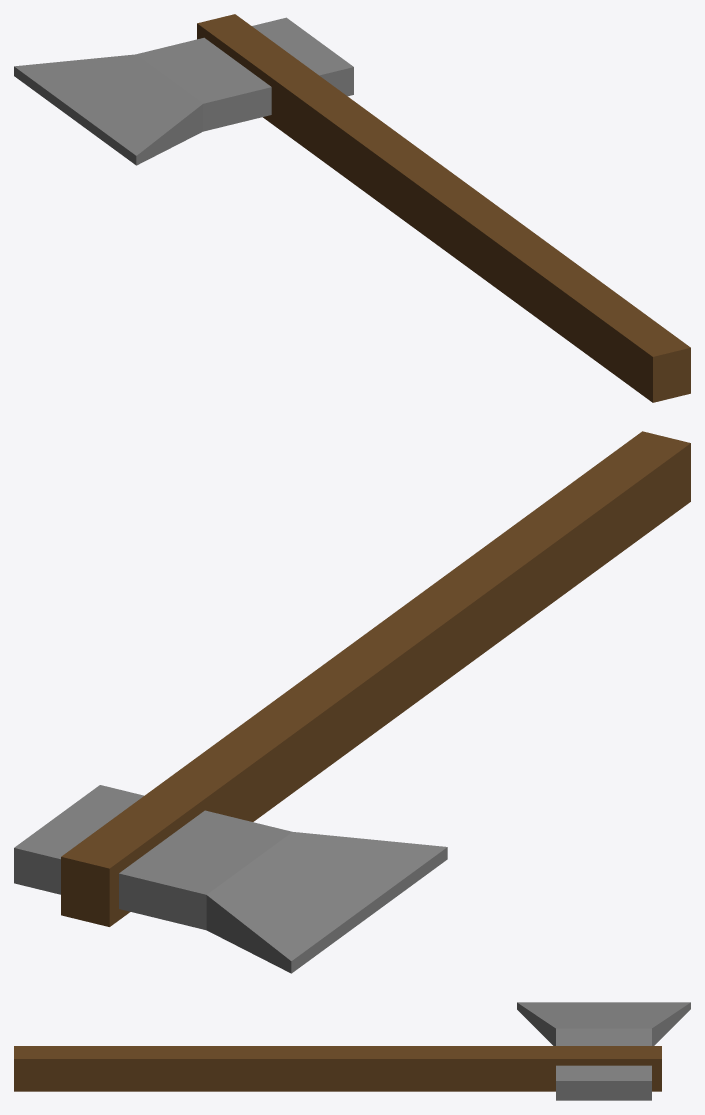
File: Axe_Embedded.gltf
The picture shows the model from 3 angles, top to bottom: view 1: azimuth 30°, elevation 25°; view 2: azimuth 150°, elevation 25°; view 3: azimuth 270°, elevation 25°; orthographic projection. The views are drawn at different scales.
Visible parts, largest first — view 1: Zxe; view 2: Zxe; view 3: Zxe.
Part boxes in pixels (x1=…): Zxe: x1=14, y1=14, x2=690, y2=402; Zxe: x1=14, y1=431, x2=690, y2=973; Zxe: x1=14, y1=1002, x2=690, y2=1100.
Bounding box in the file's own units: 0.3793 × 0.068 × 1.28.
Materials: 1 (1 with a texture image).
